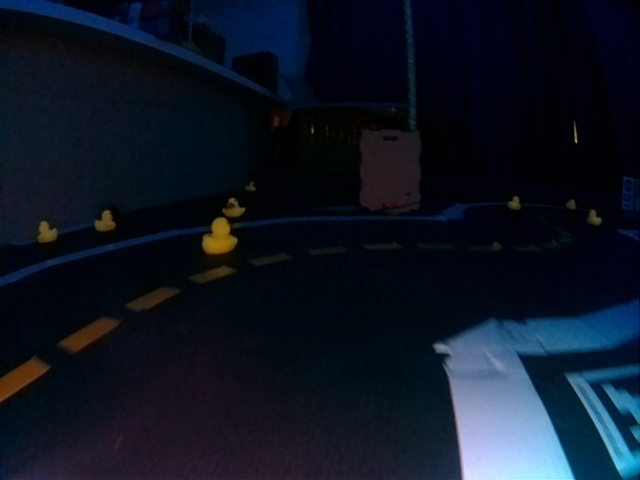Duckie: (203, 219, 236, 255), (94, 210, 115, 231), (39, 220, 57, 243), (226, 198, 245, 217), (588, 211, 602, 225), (507, 196, 521, 209), (566, 199, 576, 209), (247, 181, 256, 189)
QR code: (566, 363, 639, 474)
